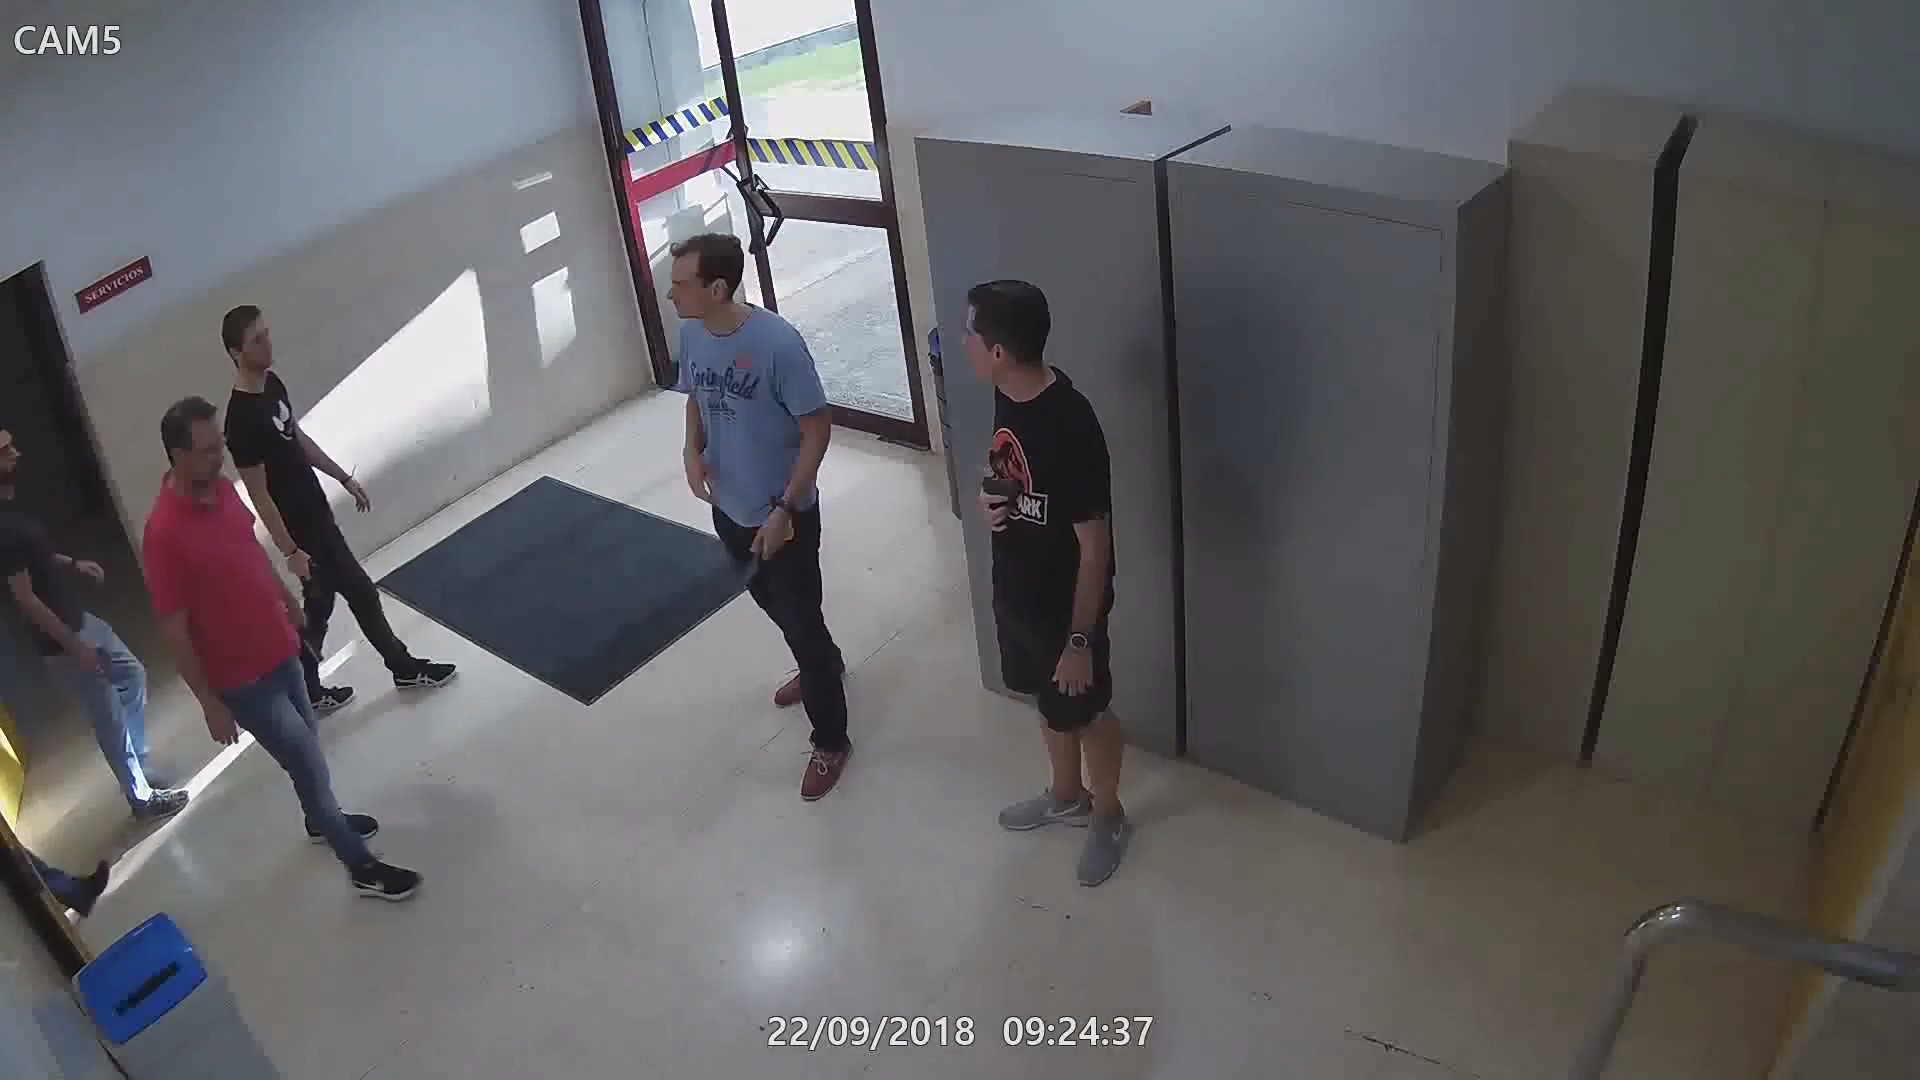Handgun: (965, 465, 1035, 535), (280, 545, 331, 609)
Knife: (725, 512, 796, 612)
